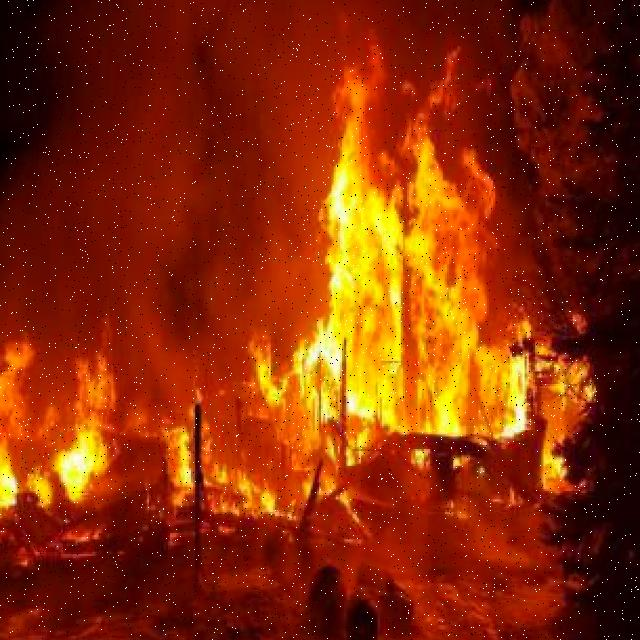fire: (304, 44, 491, 487), (155, 328, 302, 542), (0, 308, 124, 533), (493, 306, 586, 489)
smoke: (182, 17, 264, 180), (214, 182, 304, 275), (157, 180, 212, 328)
